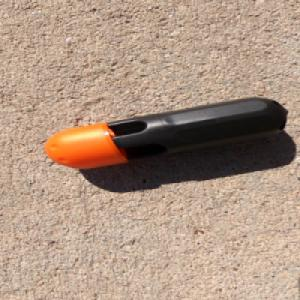PlasticPart: (43, 96, 289, 169)
